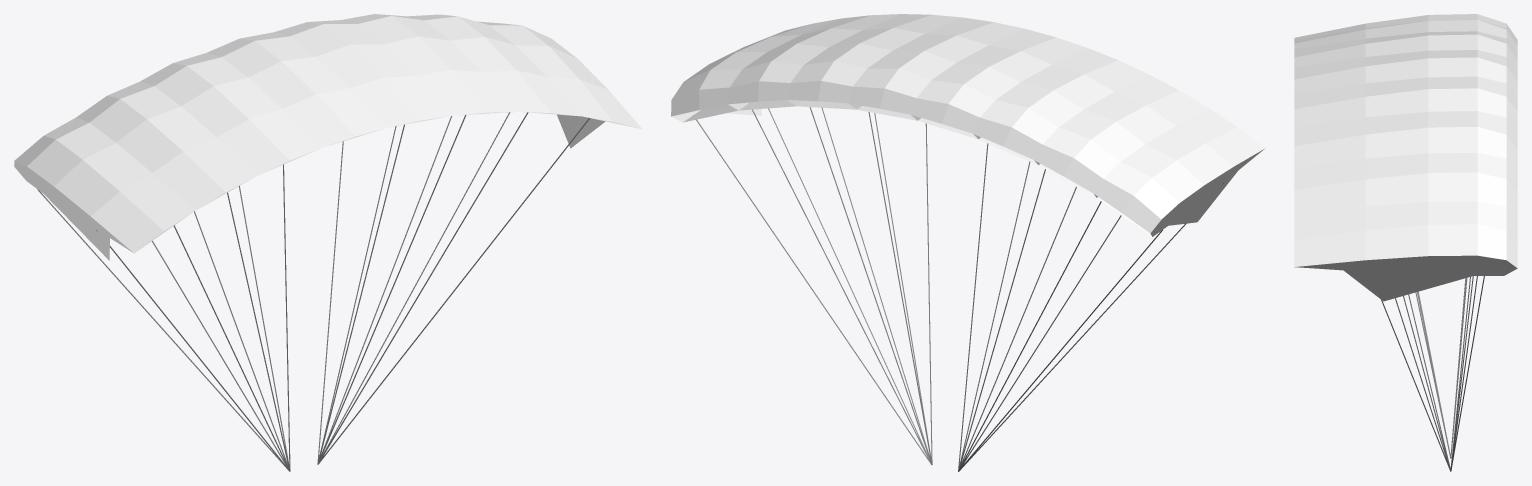
Rendered from parachute_canopy.glb.
The picture shows the model from 3 angles, left to right: view 1: azimuth 30°, elevation 25°; view 2: azimuth 150°, elevation 25°; view 3: azimuth 270°, elevation 25°; orthographic projection. The views are drawn at different scales.
Parts seen in each view (by area): view 1: parachute_canopy__mesh; view 2: parachute_canopy__mesh; view 3: parachute_canopy__mesh.
Part boxes in pixels (x1,y1,x2,y2): parachute_canopy__mesh: (14, 14, 642, 471); parachute_canopy__mesh: (671, 14, 1265, 471); parachute_canopy__mesh: (1294, 14, 1517, 471).
Size of the model in its own units: 7.5 by 5.81 by 3.
Materials: 1 (1 with a texture image).
